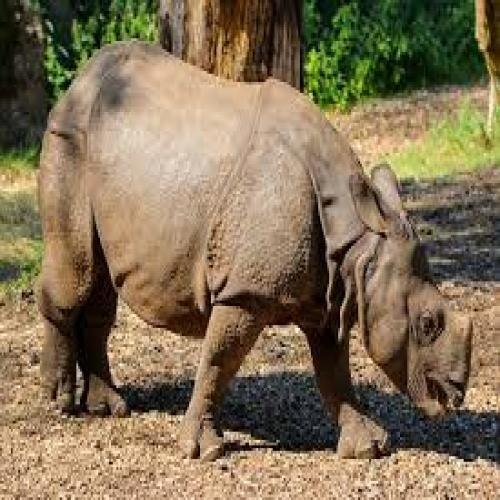rhino-endangered: (41, 39, 474, 465)
